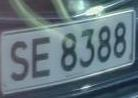3: (79, 25, 97, 73)
8: (58, 29, 81, 75), (96, 21, 114, 70), (112, 18, 129, 66)
E: (28, 34, 53, 82)
S: (8, 36, 33, 86)
